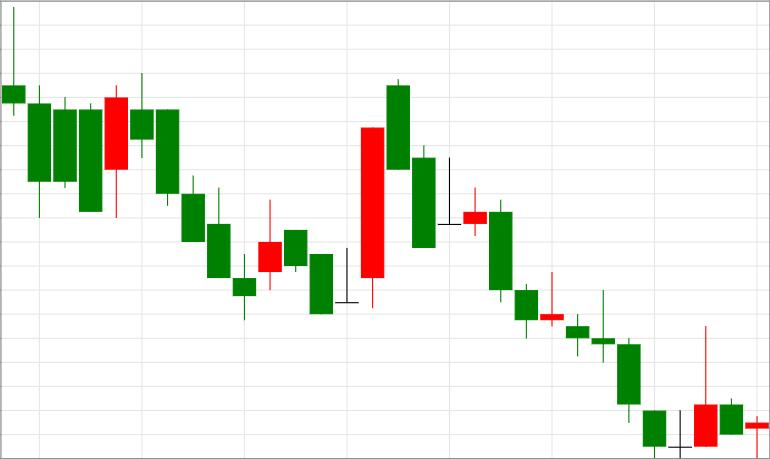morning_star_rise: (489, 199, 718, 458)
